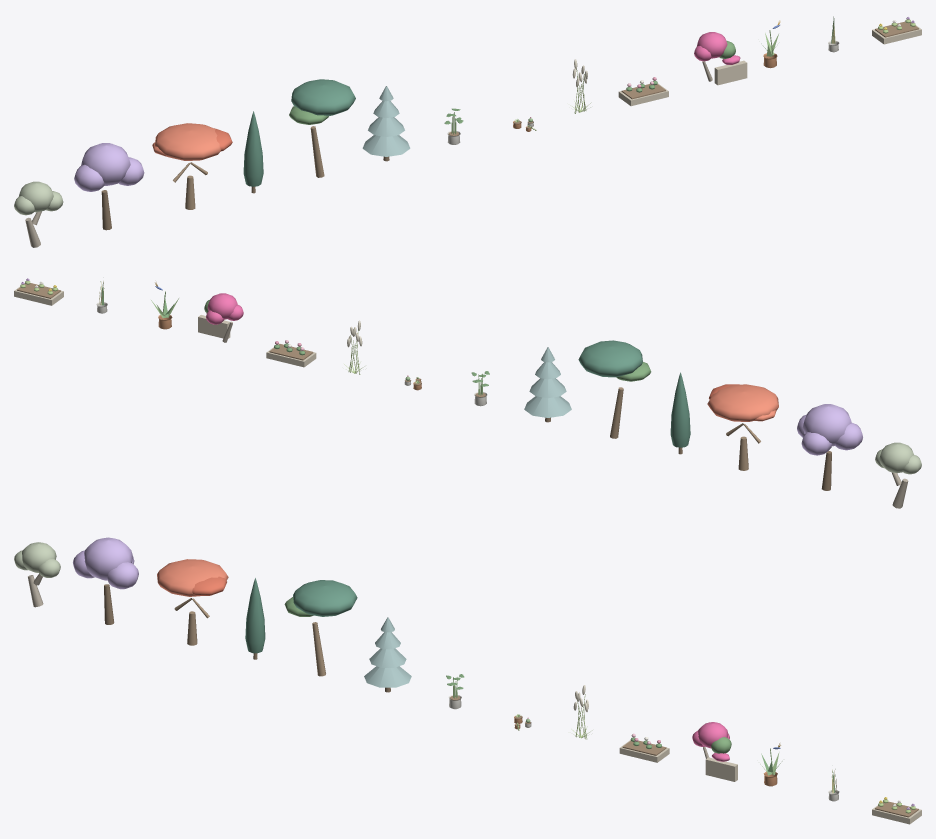
File: kit-40-tanaman-dunia-2.glb
The picture shows the model from 3 angles, top to bottom: view 1: azimuth 30°, elevation 25°; view 2: azimuth 150°, elevation 25°; view 3: azimuth 330°, elevation 25°; orthographic projection.
Parts seen in each view (by area): view 1: Pohon_Flamboyan_Tropis, Pohon_Jacaranda, Pohon_PinusPayung, Pohon_CemaraBiru, Tanaman_Bougainvillea, Pohon_Zaitun_Mediterania, Pohon_CypressItalia, Bunga_Peony_Cina, Bunga_Krisan_Jepang; view 2: Pohon_Jacaranda, Pohon_Flamboyan_Tropis, Pohon_PinusPayung, Pohon_CemaraBiru, Tanaman_Bougainvillea, Pohon_Zaitun_Mediterania, Pohon_CypressItalia, Bunga_Peony_Cina, Bunga_Krisan_Jepang; view 3: Pohon_Jacaranda, Pohon_Flamboyan_Tropis, Pohon_PinusPayung, Pohon_CemaraBiru, Tanaman_Bougainvillea, Pohon_Zaitun_Mediterania, Pohon_CypressItalia, Bunga_Peony_Cina, Bunga_Krisan_Jepang.
Part boxes in pixels (x1=…): Pohon_Flamboyan_Tropis: x1=152, y1=123, x2=232, y2=209; Pohon_Jacaranda: x1=74, y1=143, x2=144, y2=230; Pohon_PinusPayung: x1=289, y1=79, x2=355, y2=177; Pohon_CemaraBiru: x1=362, y1=86, x2=410, y2=161; Tanaman_Bougainvillea: x1=694, y1=32, x2=747, y2=85; Pohon_Zaitun_Mediterania: x1=14, y1=181, x2=63, y2=247; Pohon_CypressItalia: x1=243, y1=111, x2=263, y2=193; Bunga_Peony_Cina: x1=618, y1=77, x2=668, y2=106; Bunga_Krisan_Jepang: x1=872, y1=17, x2=921, y2=44; Pohon_Jacaranda: x1=797, y1=404, x2=862, y2=490; Pohon_Flamboyan_Tropis: x1=707, y1=384, x2=778, y2=470; Pohon_PinusPayung: x1=578, y1=340, x2=651, y2=438; Pohon_CemaraBiru: x1=524, y1=347, x2=571, y2=422; Tanaman_Bougainvillea: x1=198, y1=293, x2=243, y2=342; Pohon_Zaitun_Mediterania: x1=875, y1=442, x2=921, y2=508; Pohon_CypressItalia: x1=670, y1=372, x2=690, y2=454; Bunga_Peony_Cina: x1=266, y1=340, x2=316, y2=367; Bunga_Krisan_Jepang: x1=14, y1=278, x2=63, y2=305; Pohon_Jacaranda: x1=73, y1=537, x2=138, y2=624; Pohon_Flamboyan_Tropis: x1=157, y1=559, x2=228, y2=645; Pohon_PinusPayung: x1=284, y1=580, x2=357, y2=676; Pohon_CemaraBiru: x1=364, y1=617, x2=411, y2=692; Tanaman_Bougainvillea: x1=692, y1=722, x2=737, y2=781; Pohon_Zaitun_Mediterania: x1=14, y1=542, x2=60, y2=607; Pohon_CypressItalia: x1=245, y1=578, x2=265, y2=659; Bunga_Peony_Cina: x1=619, y1=733, x2=669, y2=762; Bunga_Krisan_Jepang: x1=872, y1=797, x2=921, y2=824.
Size of the model in its own units: 42.72 by 4.11 by 2.97.
